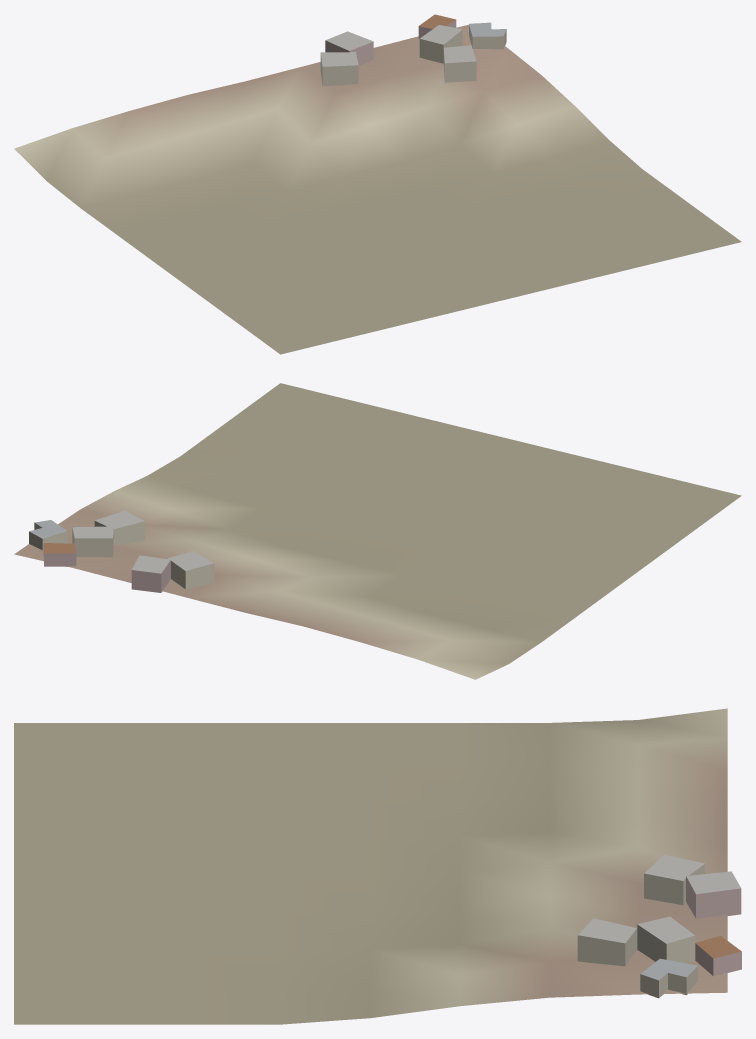
3 views of the same model, one above another, from view 1: azimuth 30°, elevation 25°; view 2: azimuth 150°, elevation 25°; view 3: azimuth 270°, elevation 25° (orthographic). The views are drawn at different scales.
Parts seen in each view (by area): view 1: Lo; view 2: Lo; view 3: Lo.
Boxes of the visible parts, x1,y1,x2,y2 form: Lo: (14,14,741,354); Lo: (14,383,741,679); Lo: (14,708,741,1024).
Size of the model in its own units: 259 by 22.72 by 261.
